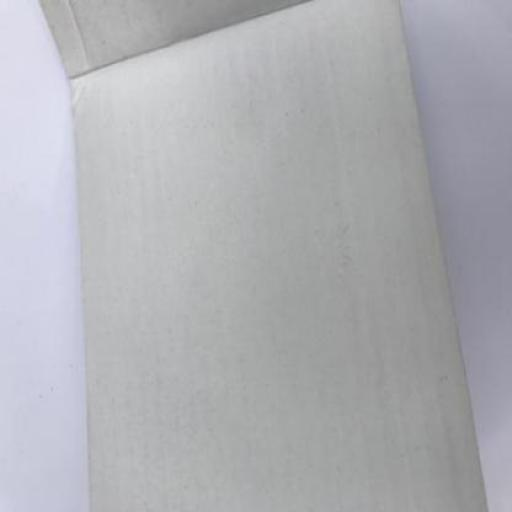cardboard: (37, 0, 487, 511), (68, 1, 490, 511), (39, 0, 319, 75)
